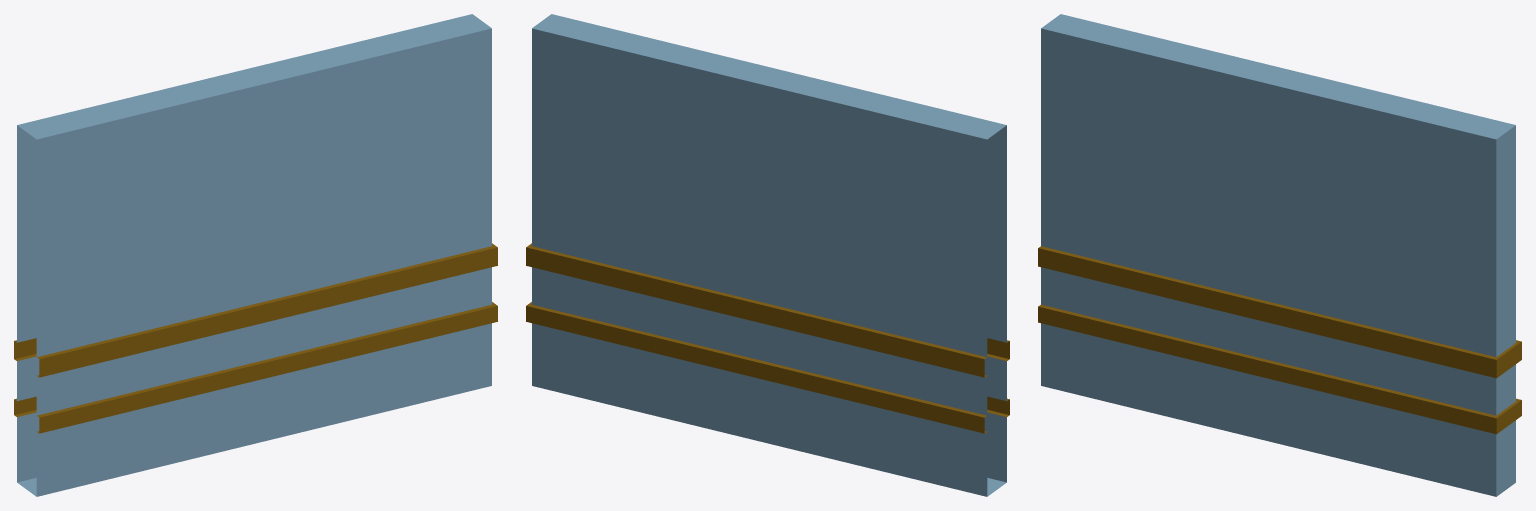
The model's file is Wall_Segment_0.2x3x4_Color2.fbx.
3 renders of one model, left to right at view 1: azimuth 30°, elevation 25°; view 2: azimuth 150°, elevation 25°; view 3: azimuth 330°, elevation 25°, orthographic.
Parts seen in each view (by area): view 1: Wall_02_x3_x4_copy13; view 2: Wall_02_x3_x4_copy13; view 3: Wall_02_x3_x4_copy13.
Part boxes in pixels (x1,y1,x2,y2): Wall_02_x3_x4_copy13: (14, 14, 497, 496); Wall_02_x3_x4_copy13: (526, 14, 1009, 496); Wall_02_x3_x4_copy13: (1038, 14, 1521, 496).
Bounding box in the file's own units: 403 × 300 × 38.4.
